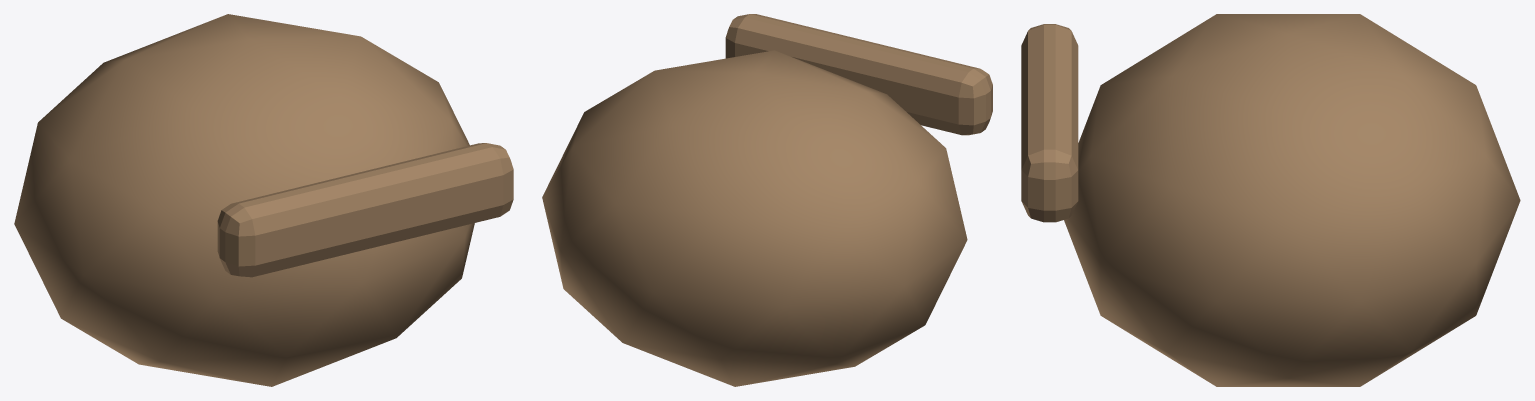
The model's file is cabelo_curto.glb.
3 renders of one model, left to right at view 1: azimuth 30°, elevation 25°; view 2: azimuth 150°, elevation 25°; view 3: azimuth 270°, elevation 25°, orthographic. The views are drawn at different scales.
Visible parts, largest first — view 1: Cabelo, Franja; view 2: Cabelo, Franja; view 3: Cabelo, Franja.
Part boxes in pixels (x1,y1,x2,y2): Cabelo: (14,14,474,386); Franja: (217,143,513,277); Cabelo: (542,50,967,386); Franja: (725,14,992,135); Cabelo: (1064,14,1520,386); Franja: (1021,24,1078,222).
Bounding box in the file's own units: 0.4212 × 0.3225 × 0.4393.
